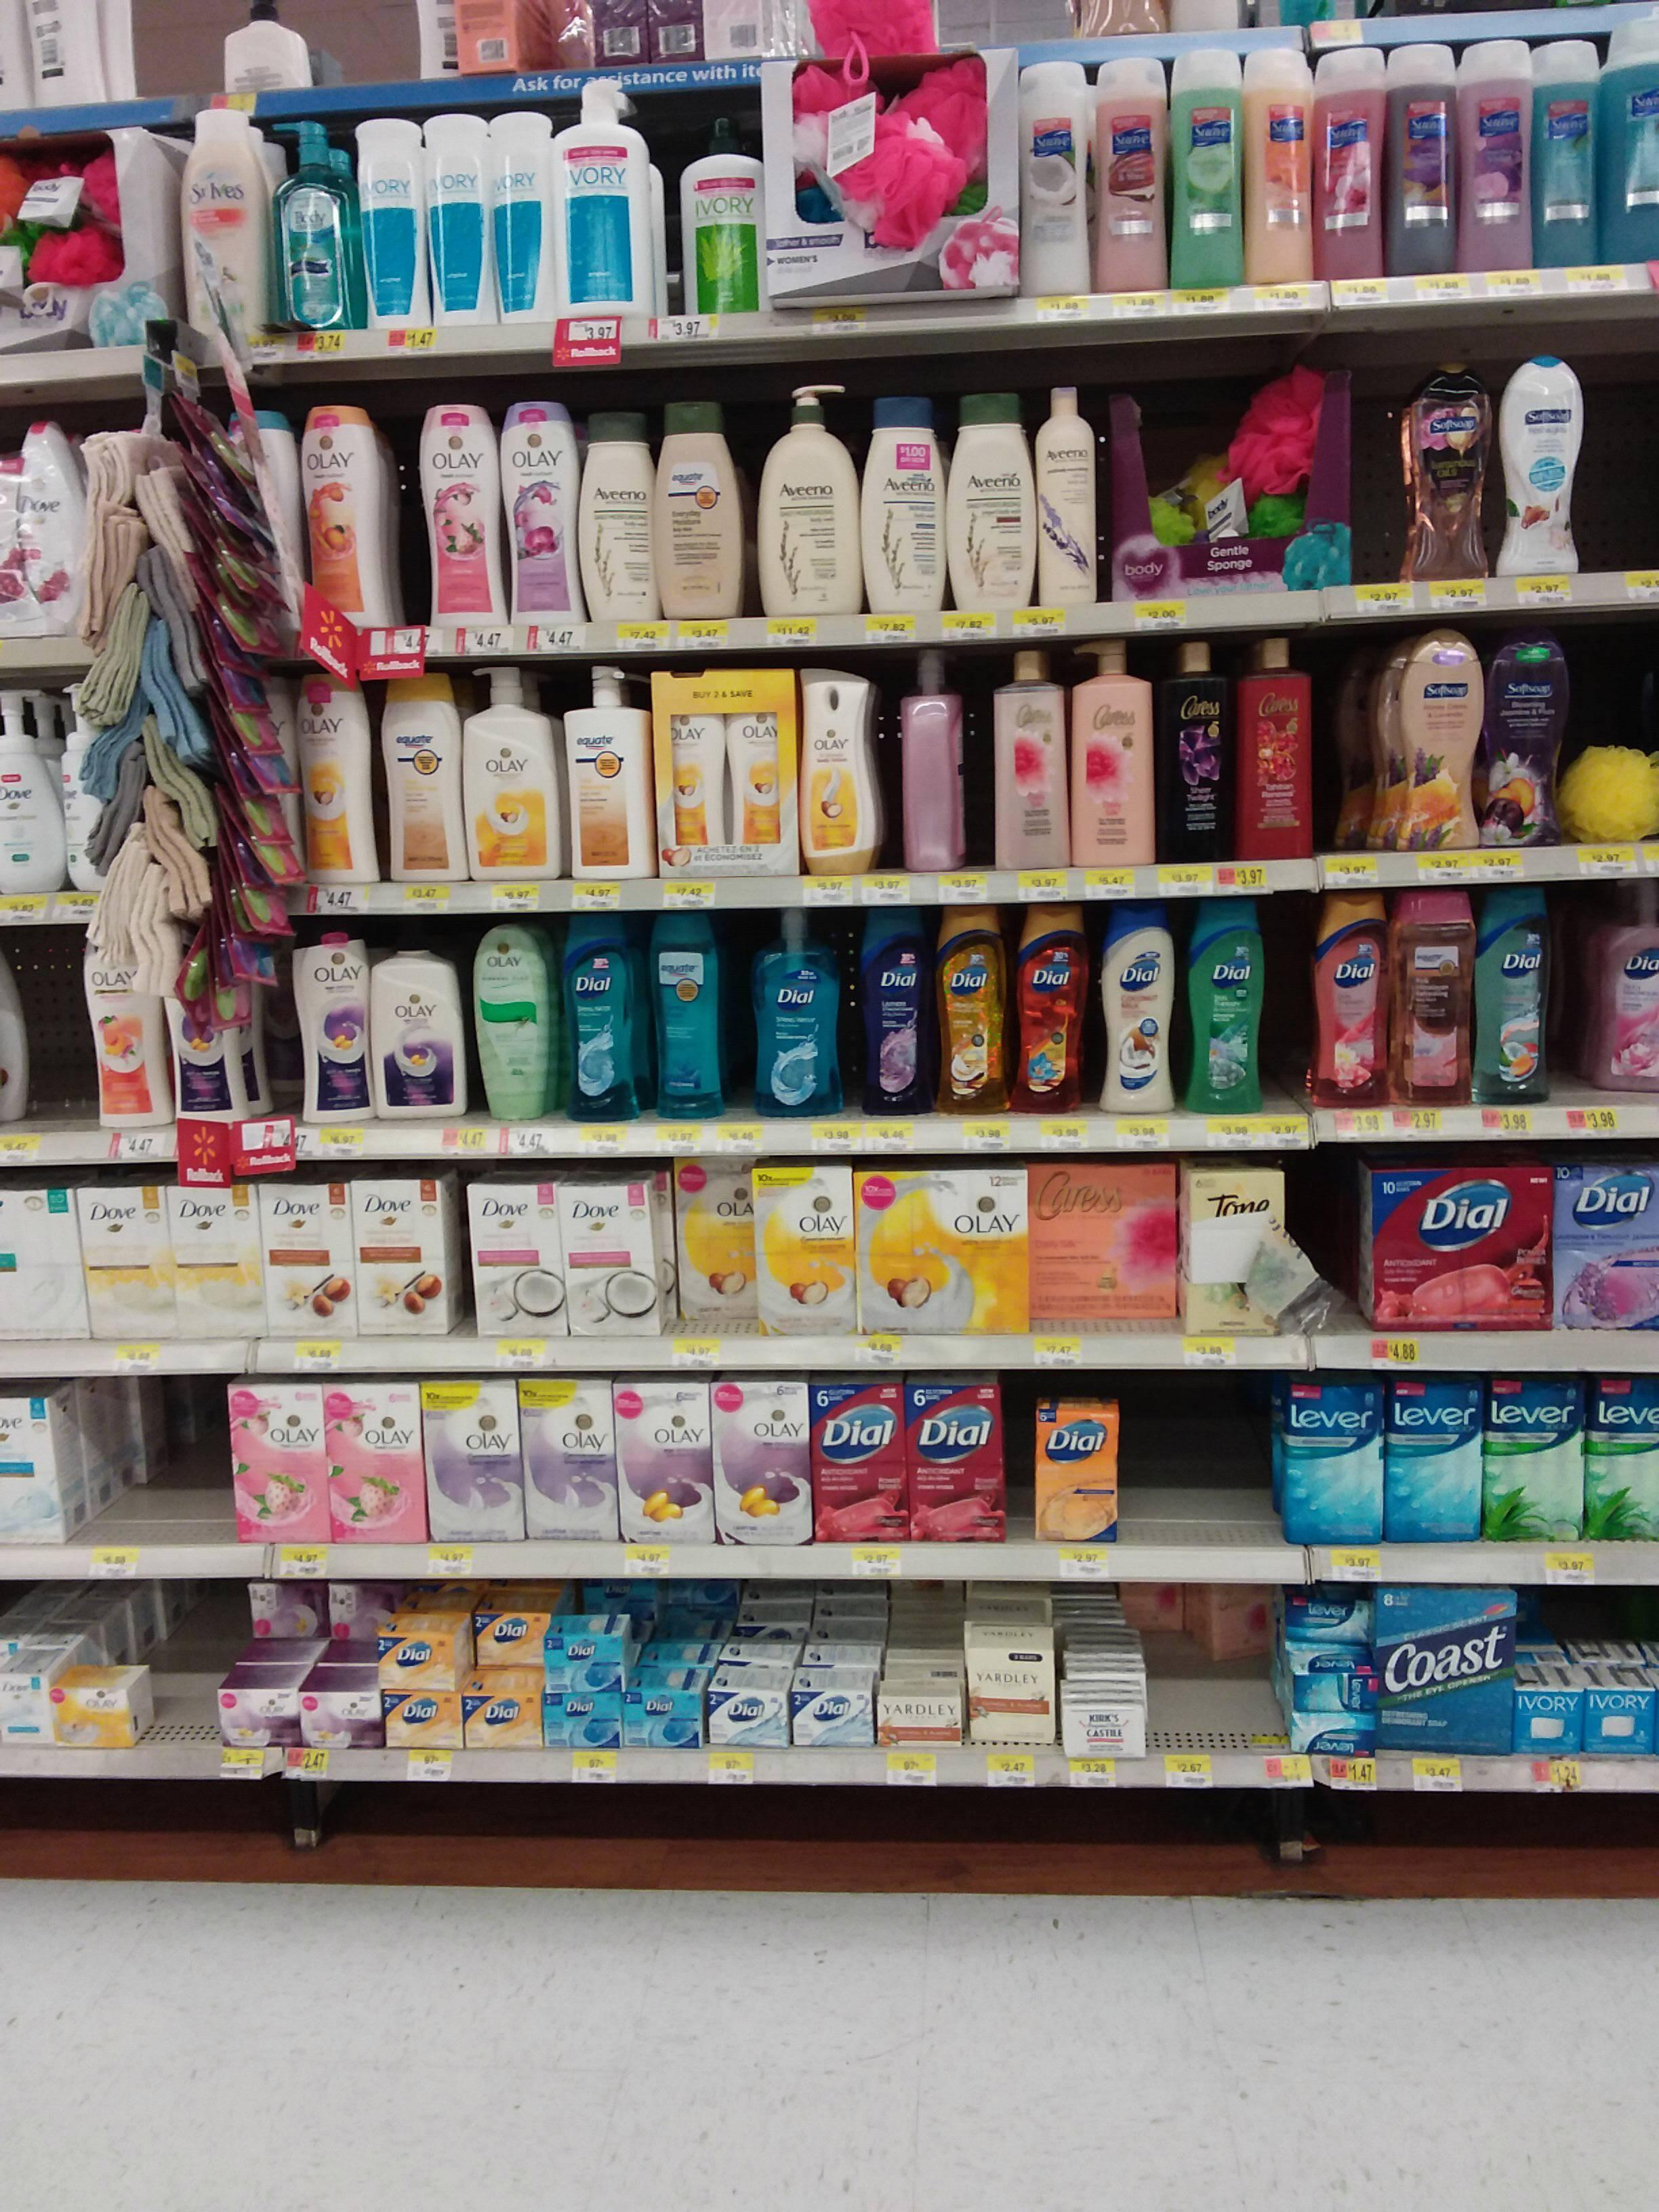misalignment: (890, 646, 967, 874), (1284, 1641, 1377, 1714)
